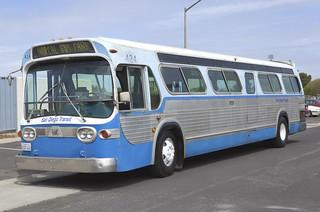bus: (16, 36, 305, 182)
